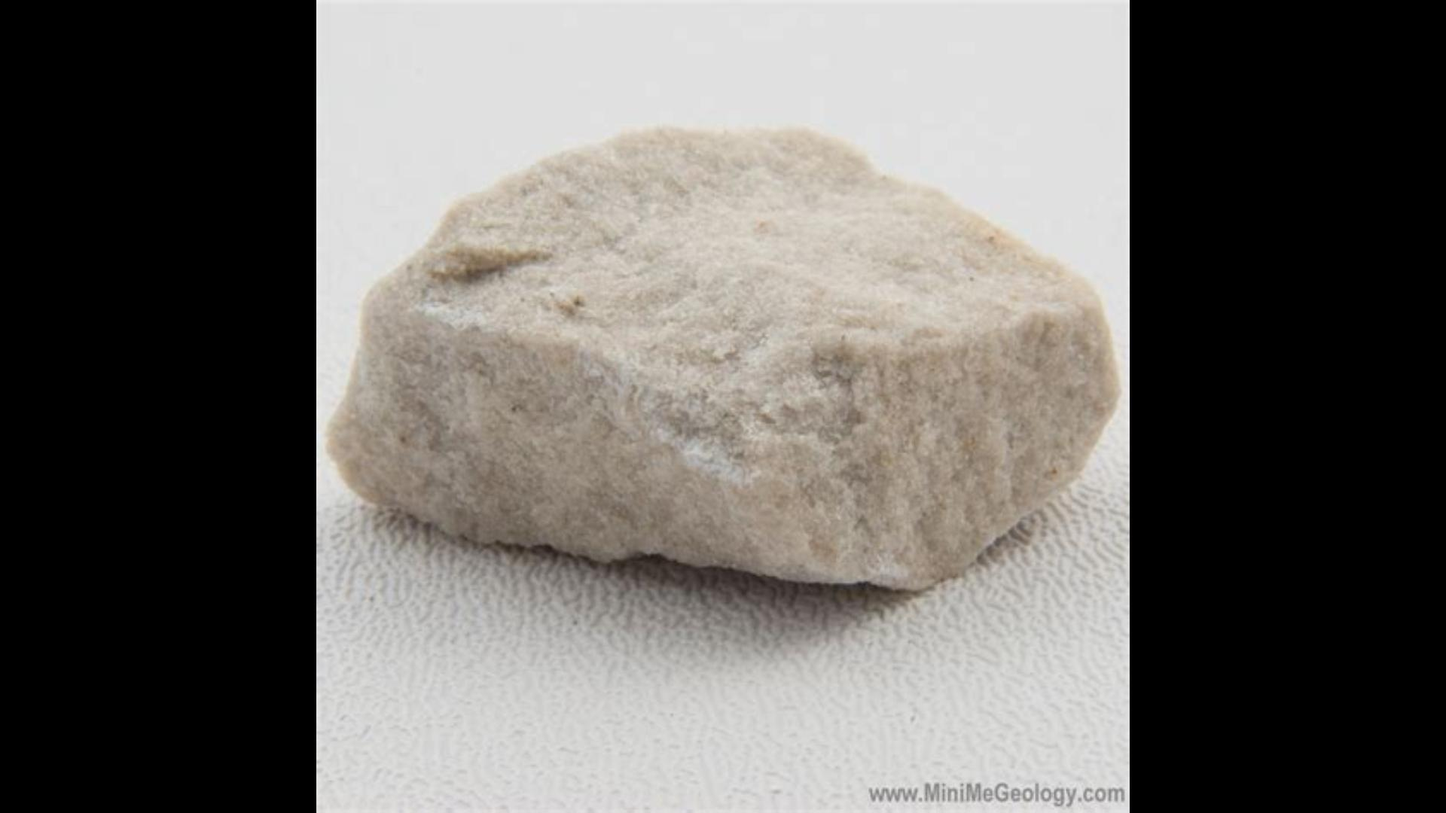rock: (330, 130, 1116, 588)
